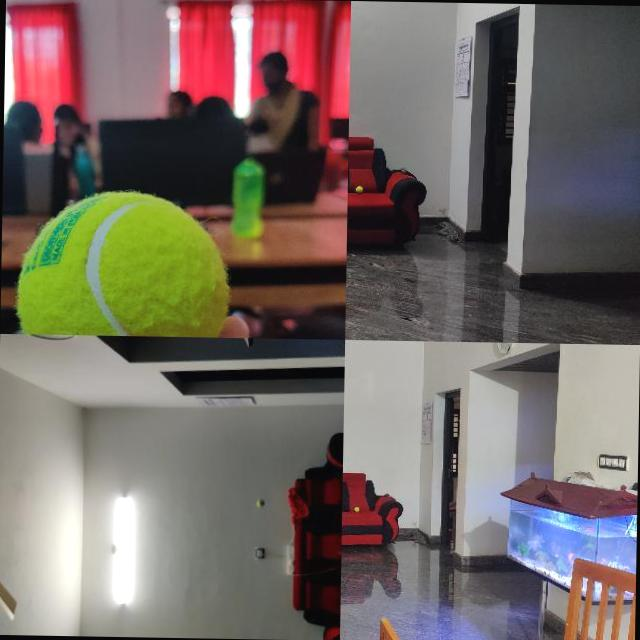tennis-ball: (17, 190, 228, 336), (256, 499, 264, 507), (356, 185, 362, 192), (354, 506, 358, 512)
